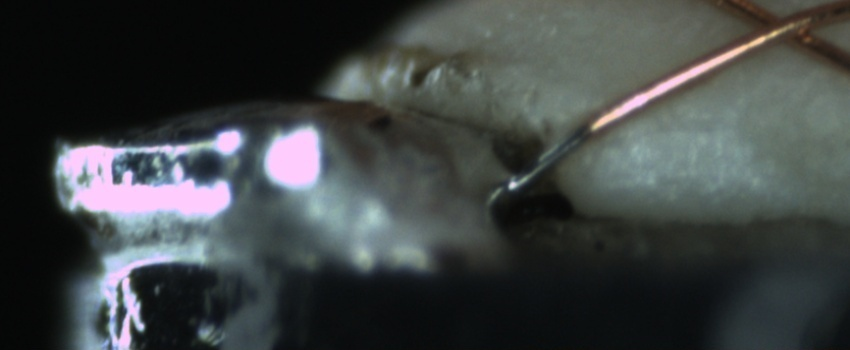CL: (728, 0, 834, 58)
DL: (625, 103, 730, 155)
TS: (508, 124, 592, 194)
TTCW: (515, 113, 601, 193)
